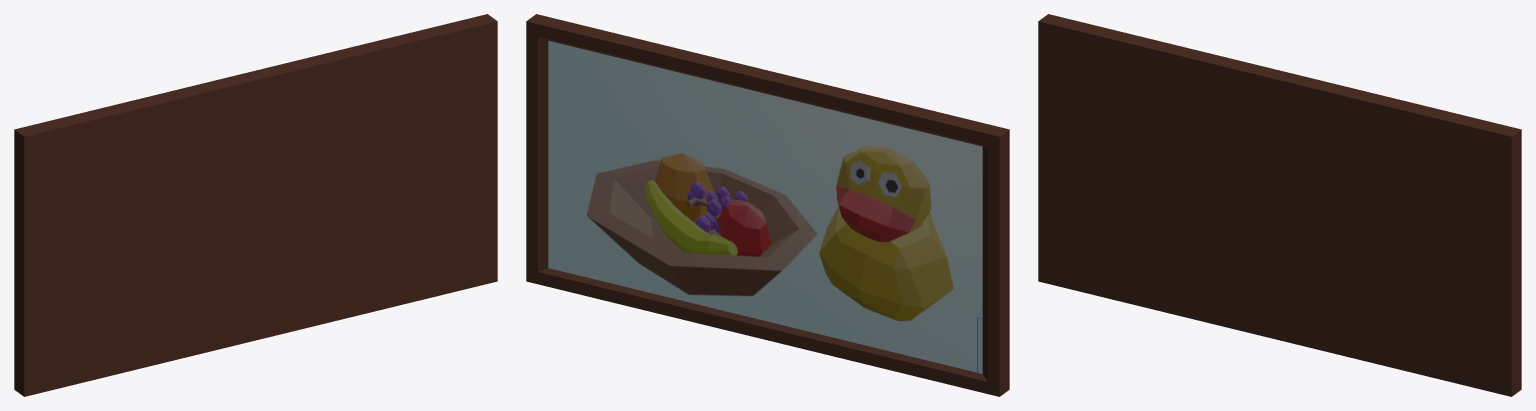
Rendered from Painting6.fbx.
3 views of the same model, side by side, from view 1: azimuth 30°, elevation 25°; view 2: azimuth 150°, elevation 25°; view 3: azimuth 330°, elevation 25° (orthographic).
Parts seen in each view (by area): view 1: Cube.004; view 2: Cube.004; view 3: Cube.004.
Boxes of the visible parts, bbox=[...] form: Cube.004: bbox=[14, 14, 497, 396]; Cube.004: bbox=[526, 14, 1009, 396]; Cube.004: bbox=[1038, 14, 1521, 396].
Bounding box in the file's own units: 436 × 229 × 16.04.
2 materials, 1 textured.
